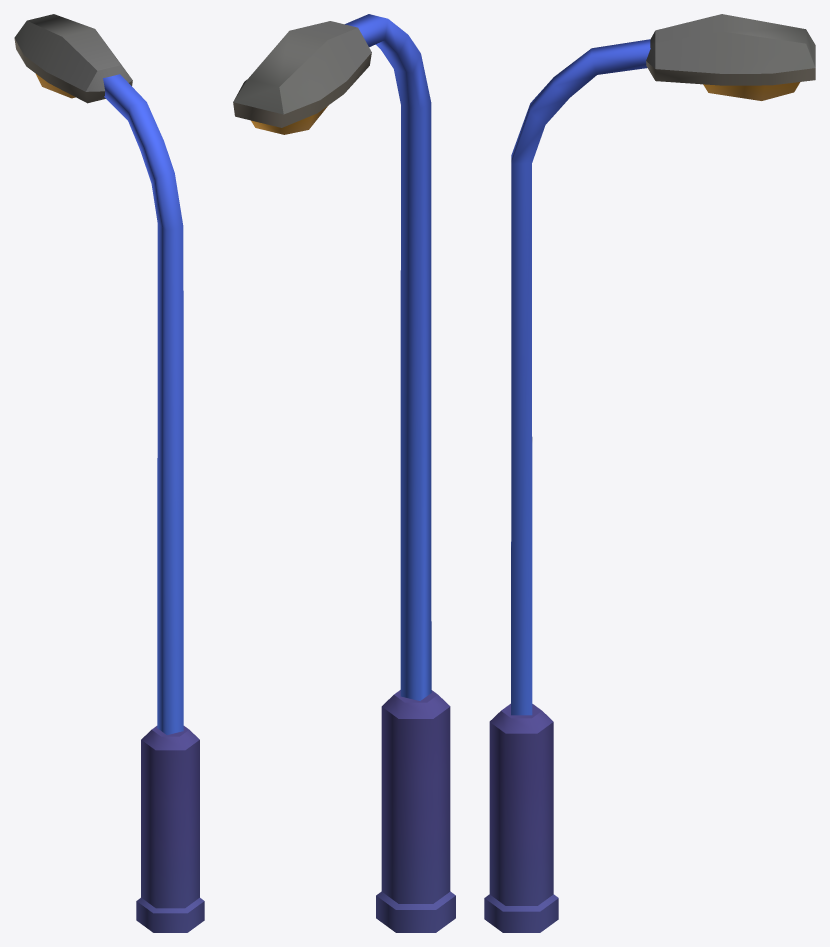
The model's file is Lights_5_B.fbx.
The picture shows the model from 3 angles, left to right: view 1: azimuth 30°, elevation 25°; view 2: azimuth 150°, elevation 25°; view 3: azimuth 270°, elevation 25°; orthographic projection. The views are drawn at different scales.
Parts seen in each view (by area): view 1: Lights_5_B; view 2: Lights_5_B; view 3: Lights_5_B.
Part boxes in pixels (box(x1,y1,x2,y2)): Lights_5_B: box(14, 14, 204, 932); Lights_5_B: box(233, 14, 455, 932); Lights_5_B: box(484, 14, 815, 932).
Size of the model in its own units: 35.36 by 423 by 142.
